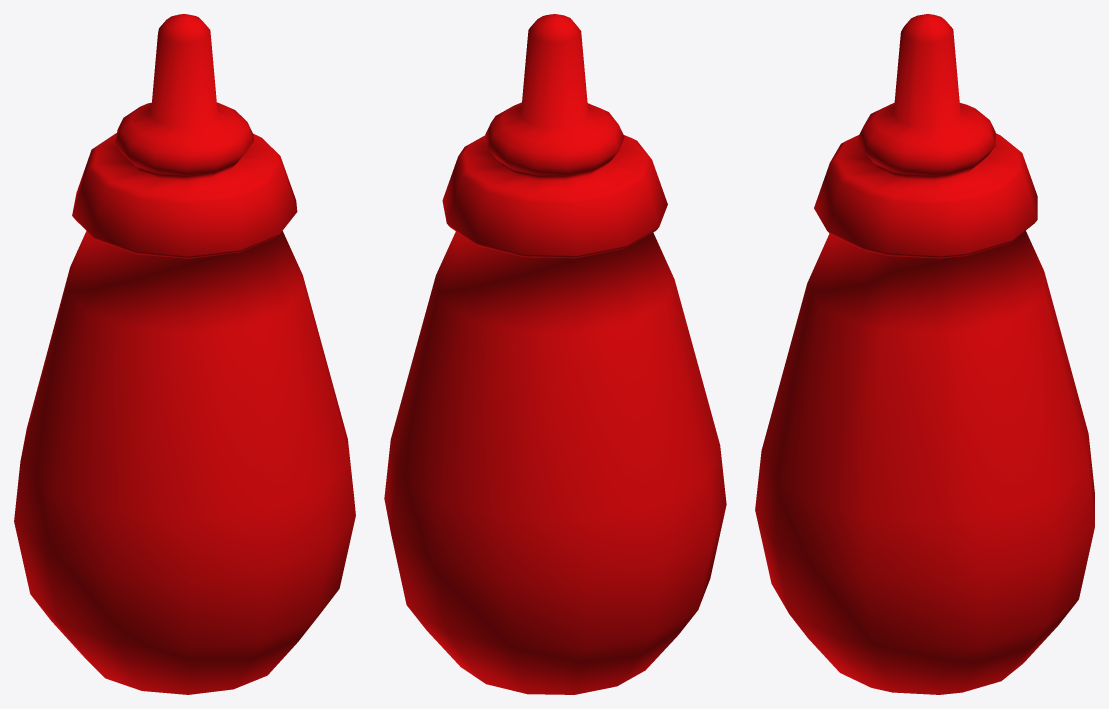
The model's file is S_BabyBottle.fbx.
The picture shows the model from 3 angles, left to right: view 1: azimuth 30°, elevation 25°; view 2: azimuth 150°, elevation 25°; view 3: azimuth 270°, elevation 25°; orthographic projection.
Parts seen in each view (by area): view 1: Cylinder.002_low; view 2: Cylinder.002_low; view 3: Cylinder.002_low.
Boxes of the visible parts, left/top/right/bottom form: Cylinder.002_low: left=14, top=14, right=355, bottom=694; Cylinder.002_low: left=384, top=14, right=726, bottom=694; Cylinder.002_low: left=755, top=14, right=1094, bottom=694.
Size of the model in its own units: 0.1245 by 0.2559 by 0.1236.
